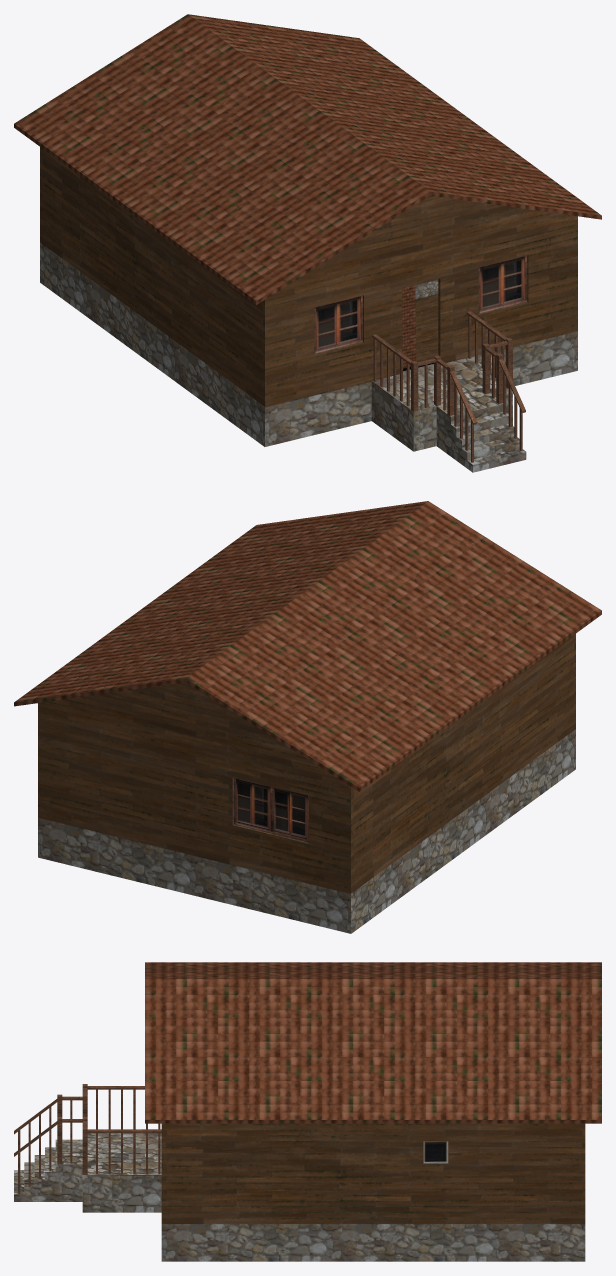
Rendered from house1.glb.
The picture shows the model from 3 angles, top to bottom: view 1: azimuth 30°, elevation 25°; view 2: azimuth 150°, elevation 25°; view 3: azimuth 270°, elevation 25°; orthographic projection. The views are drawn at different scales.
Visible parts, largest first — view 1: house1, house1_windows_house1.002, house1_door1; view 2: house1, house1_windows_house1.002; view 3: house1, house1_windows_house1.002.
Part boxes in pixels (x1,y1,x2,y2): house1: (14,14,601,472); house1_windows_house1.002: (314,255,528,354); house1_door1: (402,279,438,371); house1: (14,501,601,933); house1_windows_house1.002: (232,777,308,843); house1: (14,962,601,1261); house1_windows_house1.002: (423,1141,448,1163).
Bounding box in the file's own units: 9.05 × 5.6 × 14.15.
1 material, 1 textured.
